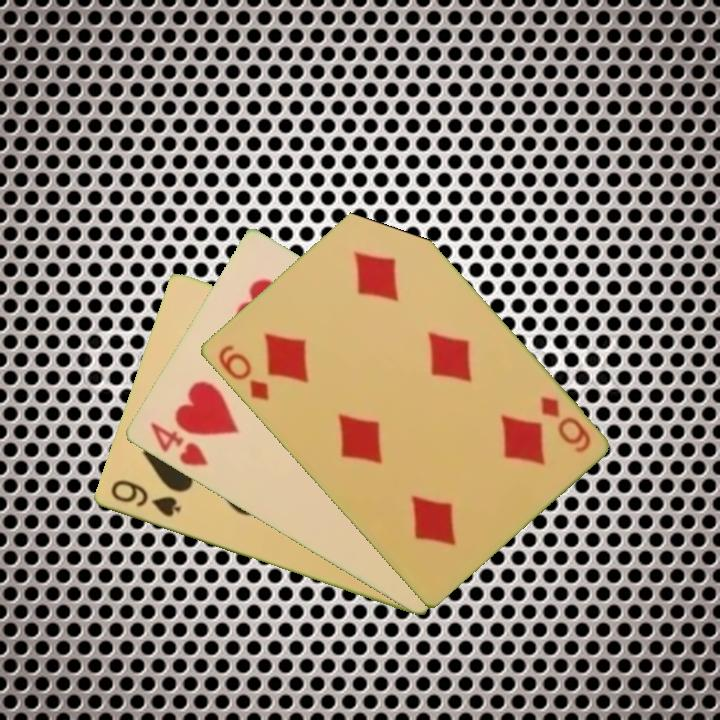4h: (146, 419, 210, 470)
6d: (213, 341, 272, 404), (536, 392, 594, 456)
9s: (106, 476, 183, 520)
